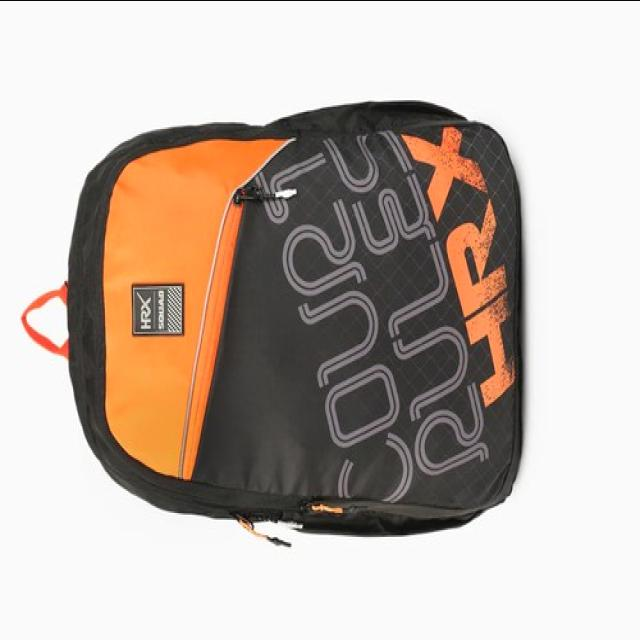backpack: (20, 100, 523, 547)
